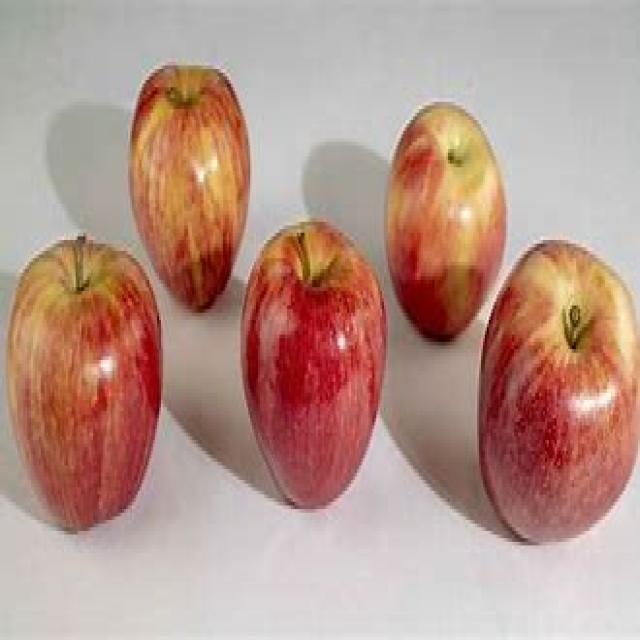apple: (479, 240, 640, 549), (10, 222, 165, 542), (239, 215, 391, 514), (382, 104, 509, 342), (131, 64, 250, 312)
